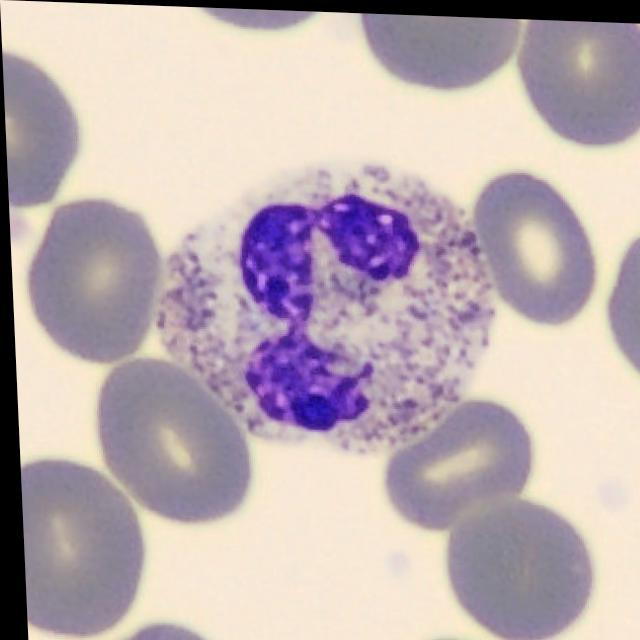Neutrofilo segmentado: (148, 155, 495, 455)
